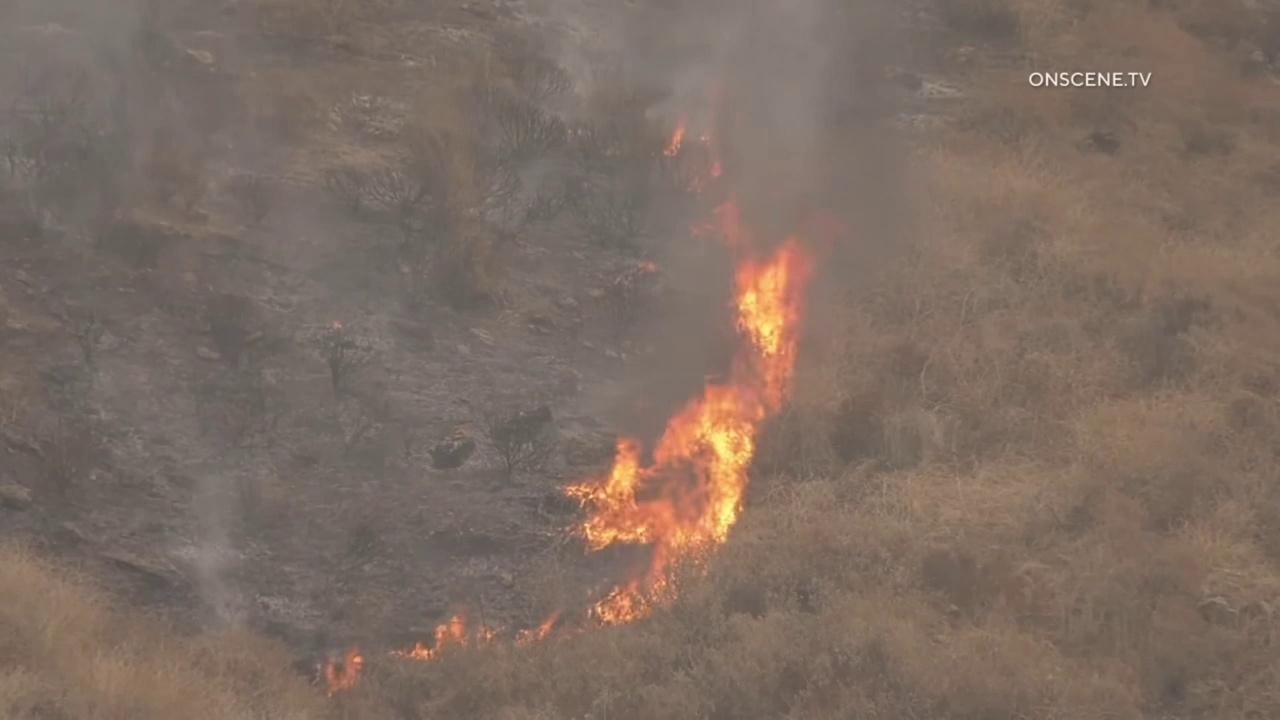fire: (562, 193, 852, 635), (385, 613, 471, 661), (323, 645, 364, 700), (514, 608, 561, 645), (663, 125, 685, 158), (476, 625, 497, 642), (709, 158, 723, 180), (644, 260, 657, 272), (698, 135, 711, 144), (331, 319, 342, 328)
smoke: (0, 0, 955, 631)
